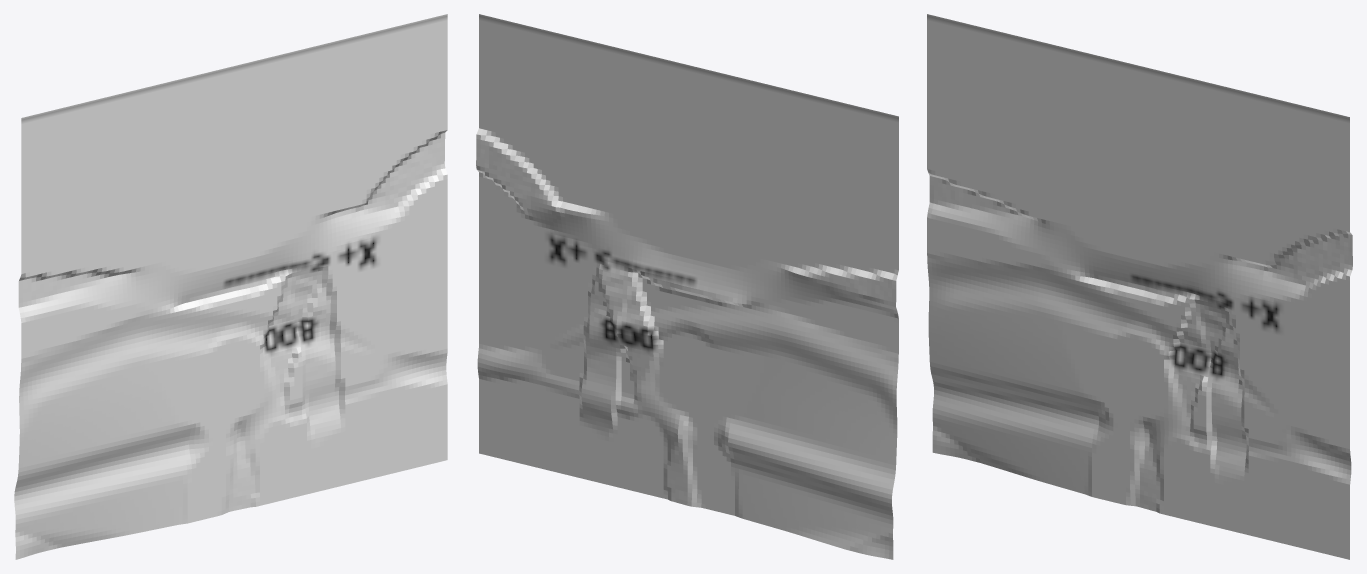
3 views of the same model, side by side, from view 1: azimuth 30°, elevation 25°; view 2: azimuth 150°, elevation 25°; view 3: azimuth 330°, elevation 25° (orthographic).
Parts seen in each view (by area): view 1: Ground008; view 2: Ground008; view 3: Ground008.
Boxes of the visible parts, x1,y1,x2,y2 form: Ground008: (14, 14, 447, 559); Ground008: (476, 14, 898, 559); Ground008: (927, 14, 1352, 559).
Size of what is drawn, in the model's own units: 100 by 2.91 by 100.
Materials: 1 (1 with a texture image).
